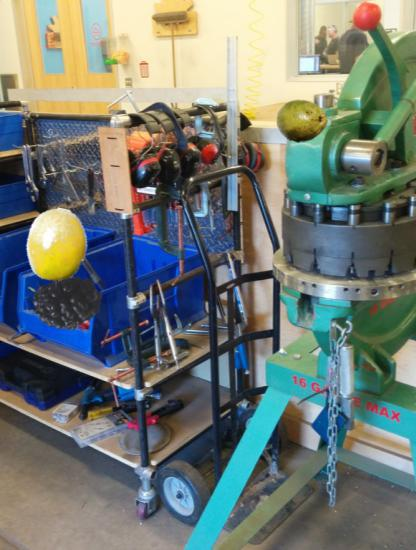Guava: (276, 96, 328, 148)
Maracuja: (18, 208, 96, 286)
Mulberry: (23, 269, 107, 353)
